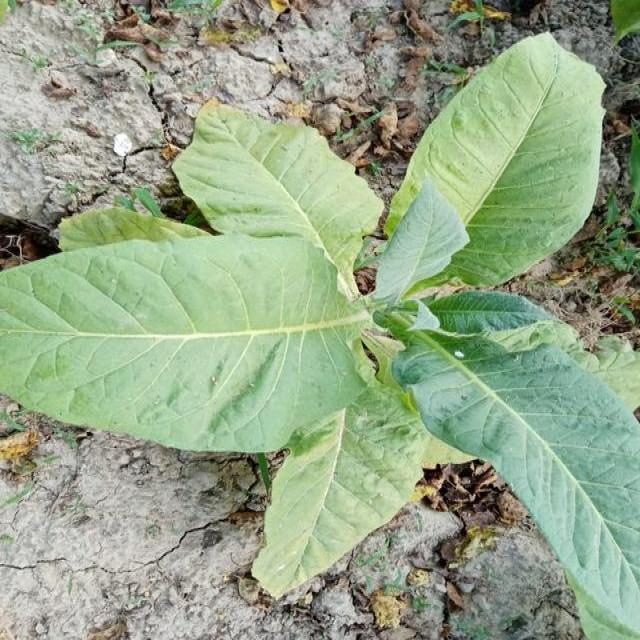crop: (2, 32, 640, 631)
